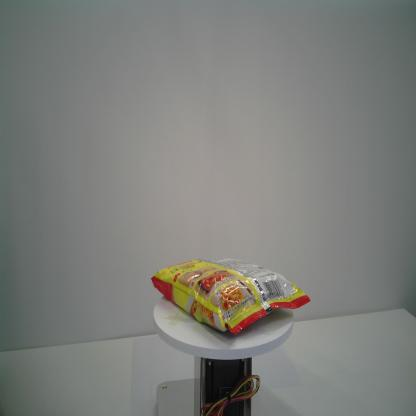Instant Noodles: (151, 256, 311, 335)
